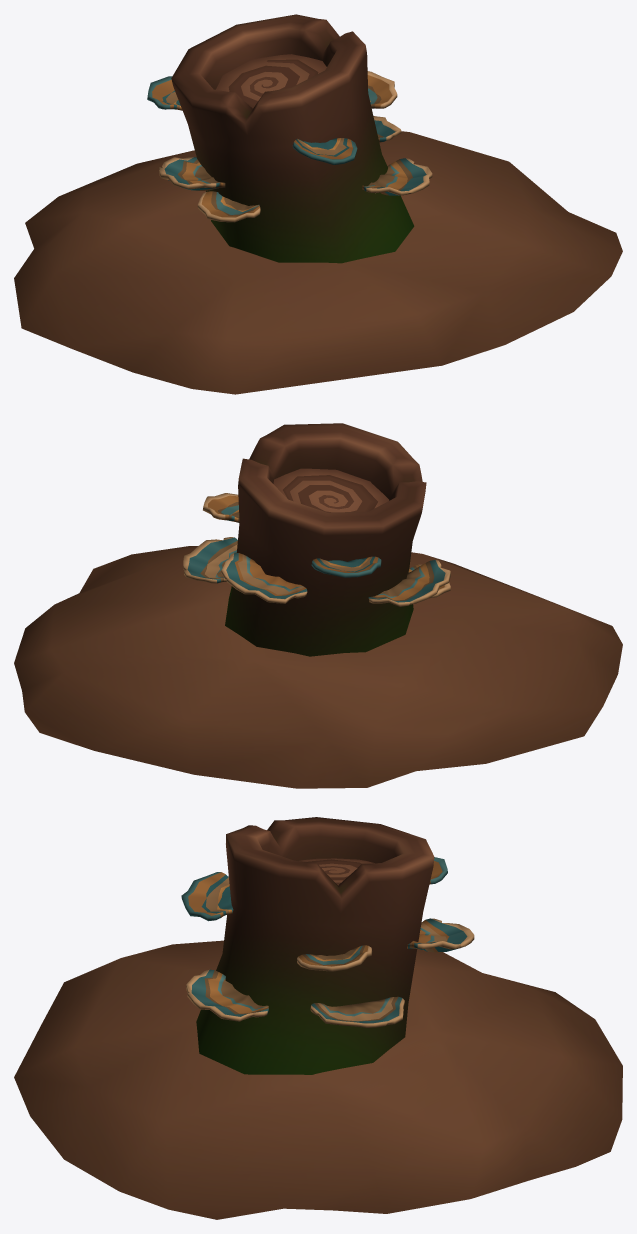
Rendered from SM_PlantSoil_TurkeyTail_Lv1.fbx.
3 views of the same model, one above another, from view 1: azimuth 30°, elevation 25°; view 2: azimuth 150°, elevation 25°; view 3: azimuth 270°, elevation 25° (orthographic). The views are drawn at different scales.
Parts seen in each view (by area): view 1: SM_PlantSoil_TurkeyTail_Lv1; view 2: SM_PlantSoil_TurkeyTail_Lv1; view 3: SM_PlantSoil_TurkeyTail_Lv1.
Part boxes in pixels (bbox=[...]): SM_PlantSoil_TurkeyTail_Lv1: bbox=[14, 14, 622, 394]; SM_PlantSoil_TurkeyTail_Lv1: bbox=[14, 423, 622, 788]; SM_PlantSoil_TurkeyTail_Lv1: bbox=[14, 817, 622, 1219].
Size of the model in its own units: 118 by 51.64 by 106.
